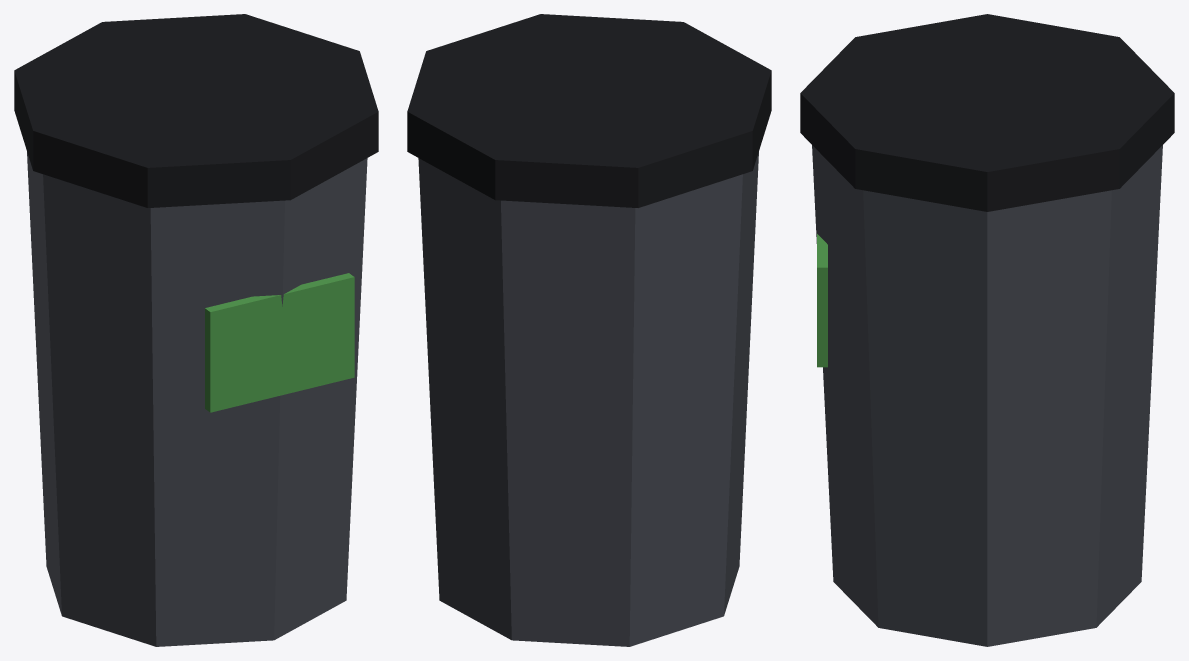
The model's file is bin.glb.
3 renders of one model, left to right at view 1: azimuth 30°, elevation 25°; view 2: azimuth 150°, elevation 25°; view 3: azimuth 270°, elevation 25°, orthographic.
Visible parts, largest first — view 1: bin; view 2: bin; view 3: bin.
Boxes of the visible parts, <box> form: bin: <box>14,14,378,646</box>; bin: <box>407,14,771,646</box>; bin: <box>800,14,1174,646</box>.
Size of the model in its own units: 0.68 by 0.98 by 0.68.
